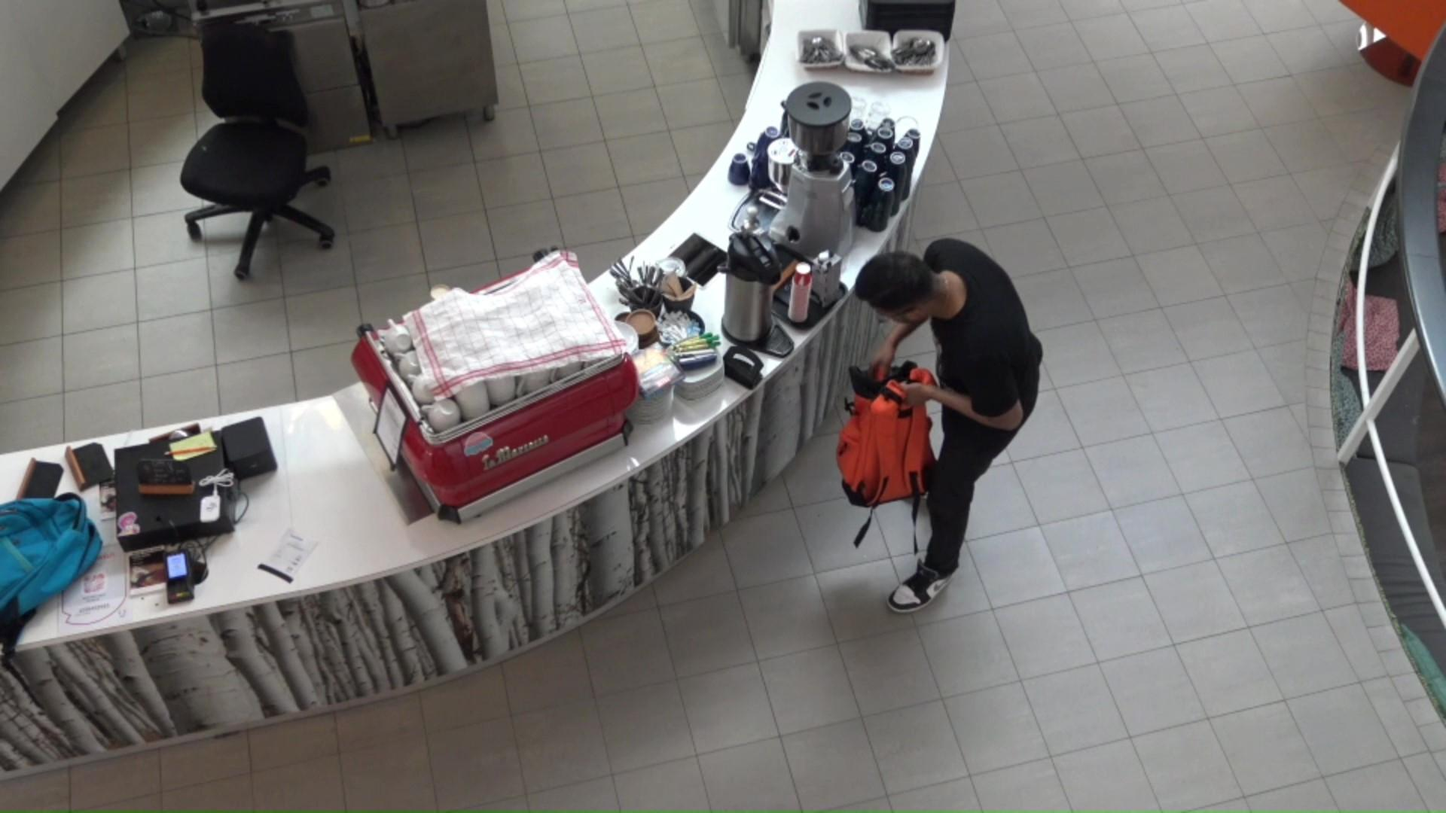shoplifting: (844, 236, 1045, 613)
